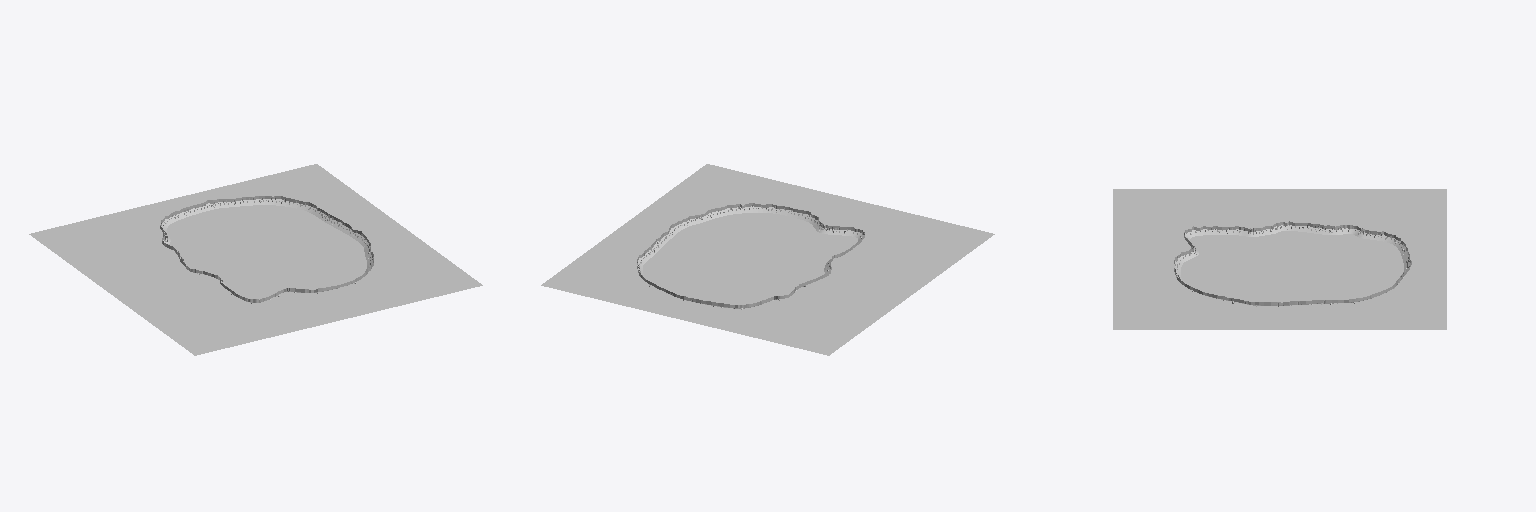
3 views of the same model, side by side, from view 1: azimuth 30°, elevation 25°; view 2: azimuth 150°, elevation 25°; view 3: azimuth 270°, elevation 25° (orthographic).
Visible parts, largest first — view 1: Plane, Wall_08; view 2: Plane, Wall_02; view 3: Plane, Wall_04.
Part boxes in pixels (left/top/right/bottom): Plane: left=29, top=164, right=482, bottom=355; Wall_08: left=203, top=196, right=272, bottom=210; Plane: left=541, top=164, right=994, bottom=355; Wall_02: left=742, top=203, right=810, bottom=221; Plane: left=1113, top=189, right=1446, bottom=329; Wall_04: left=1184, top=226, right=1253, bottom=238.
Size of the model in its own units: 1400 by 35.17 by 1400.